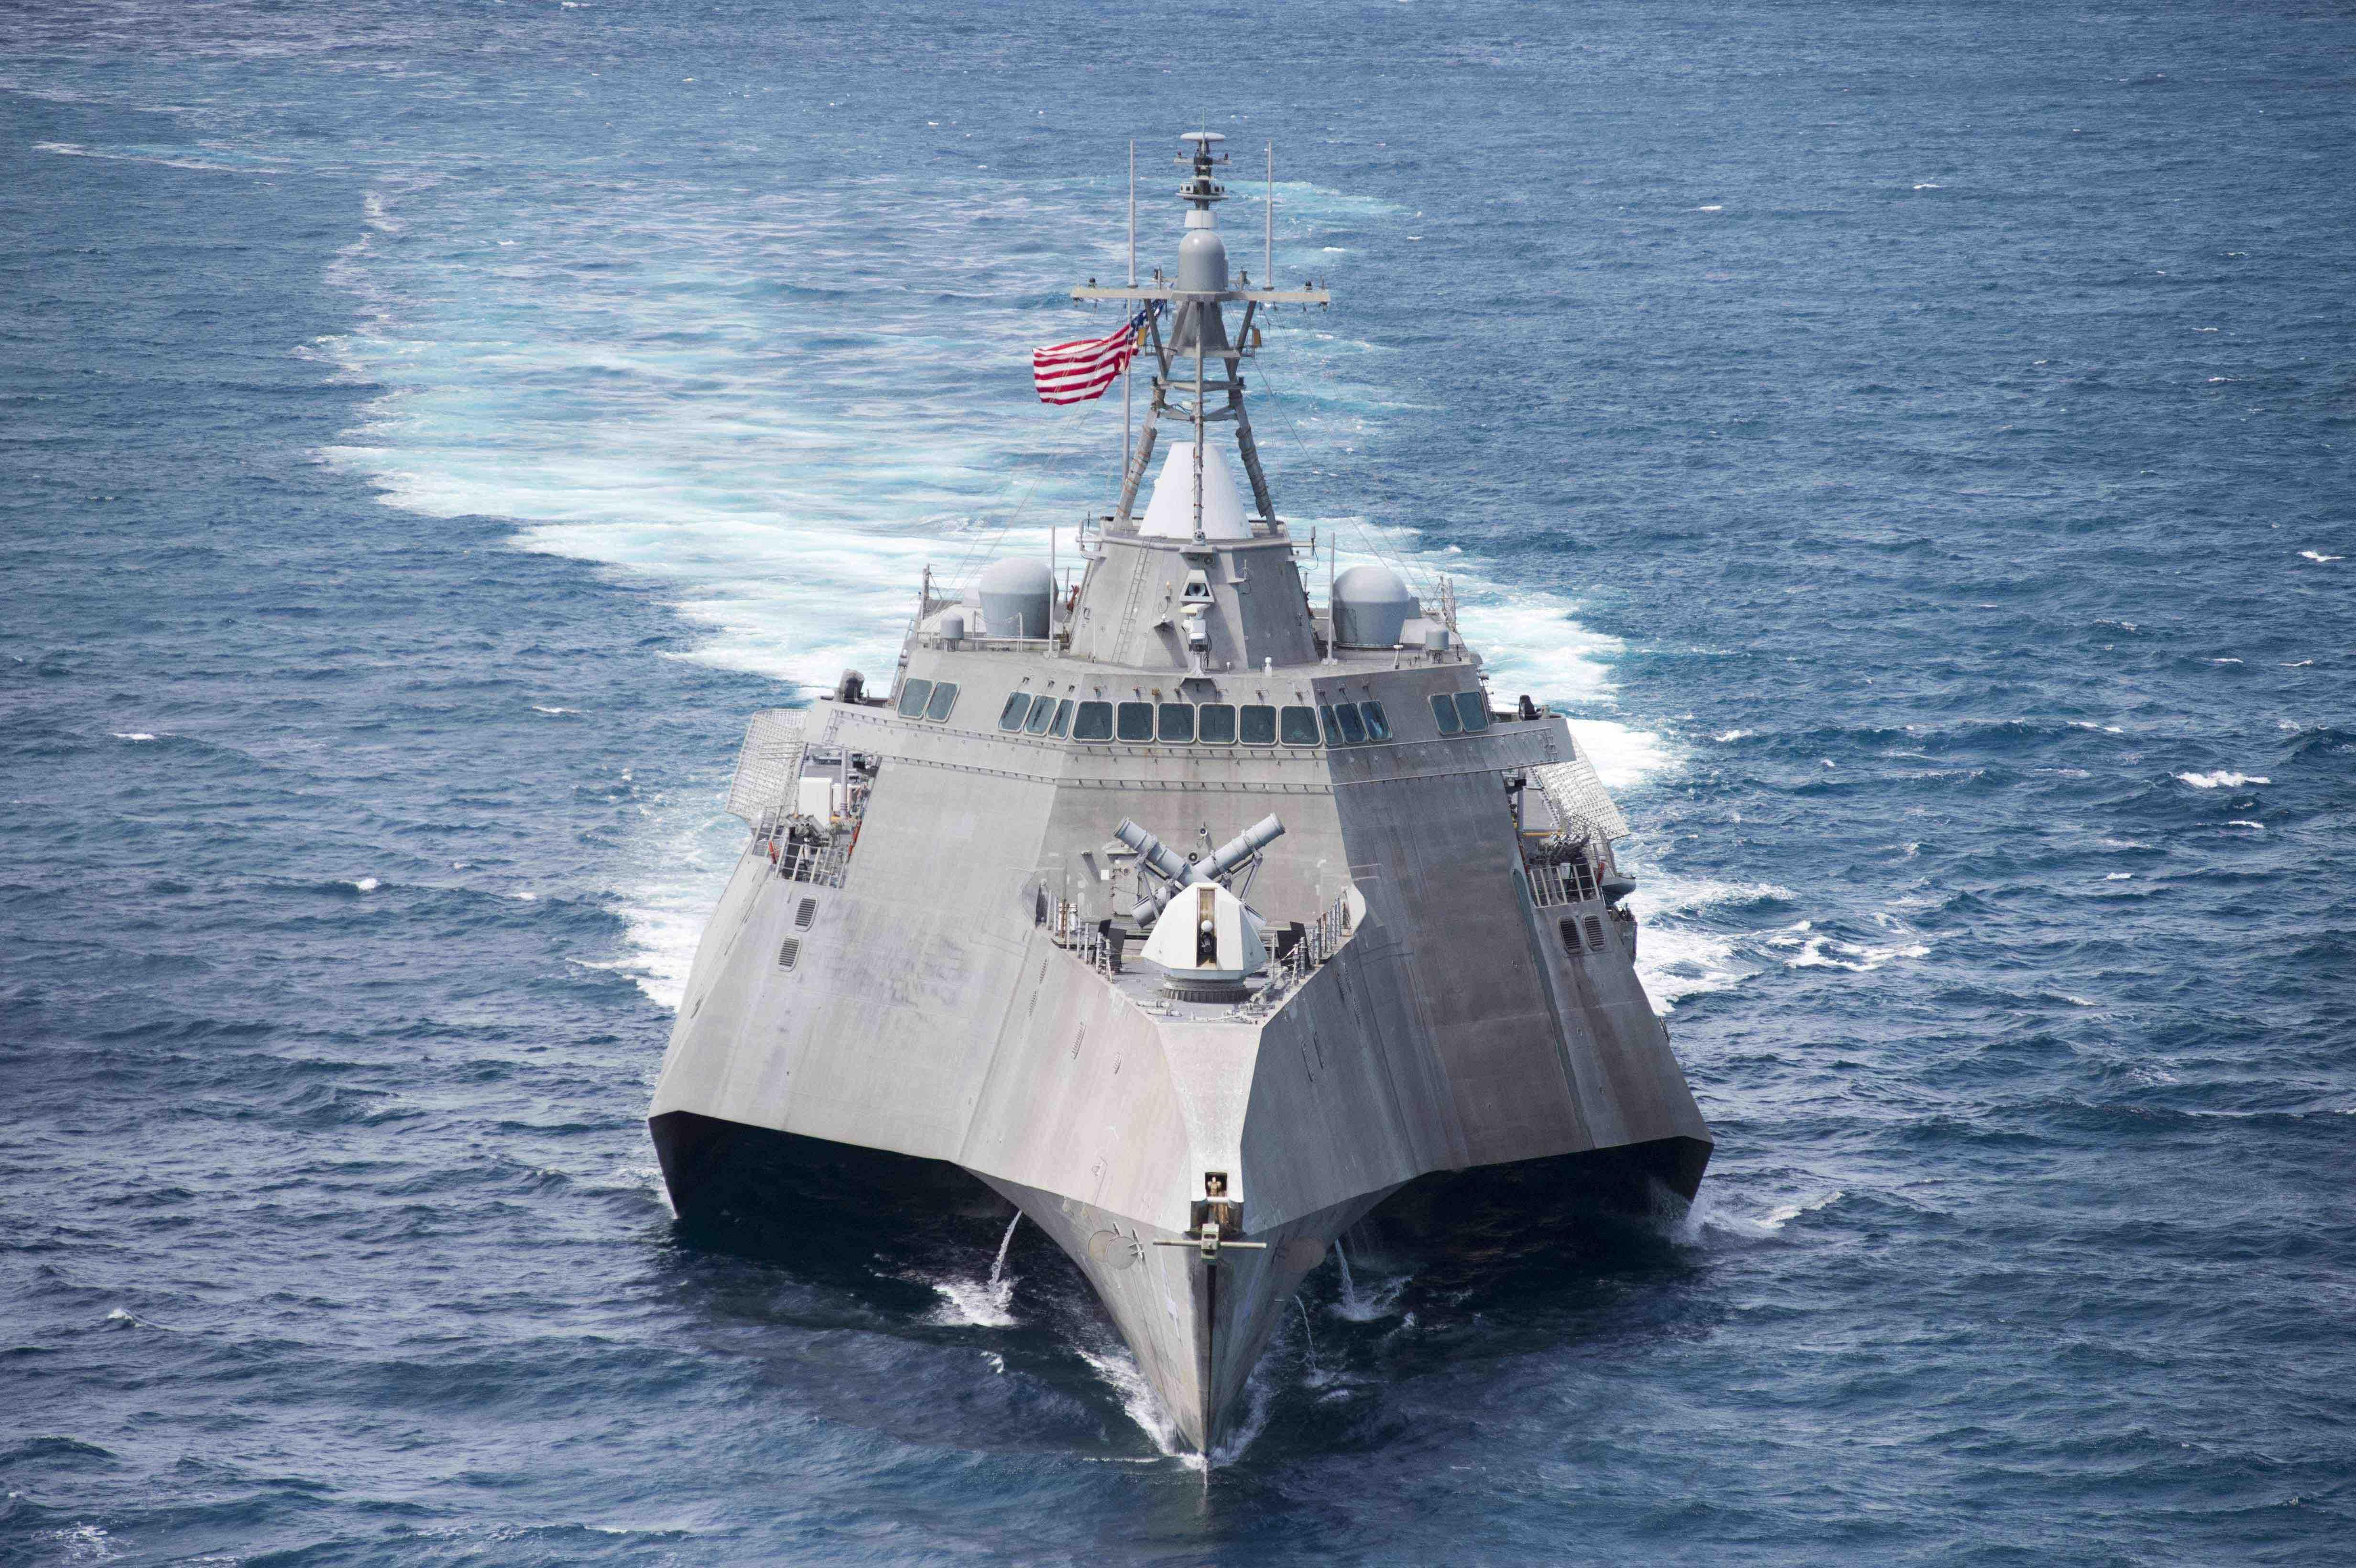MIL_Ship: (641, 301, 1724, 1501)
